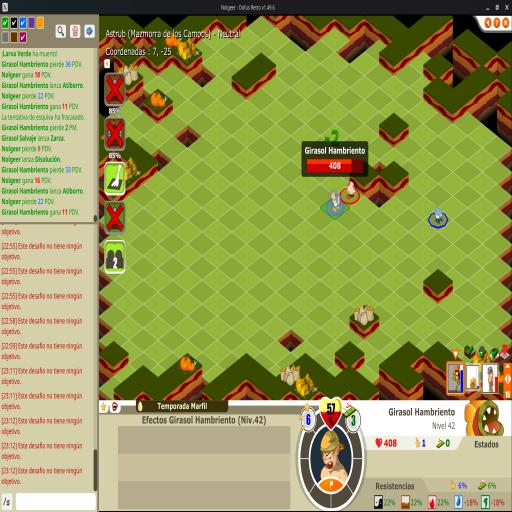Enemigos: (330, 189, 341, 213), (433, 204, 443, 224)
Personaje: (346, 180, 356, 200)
